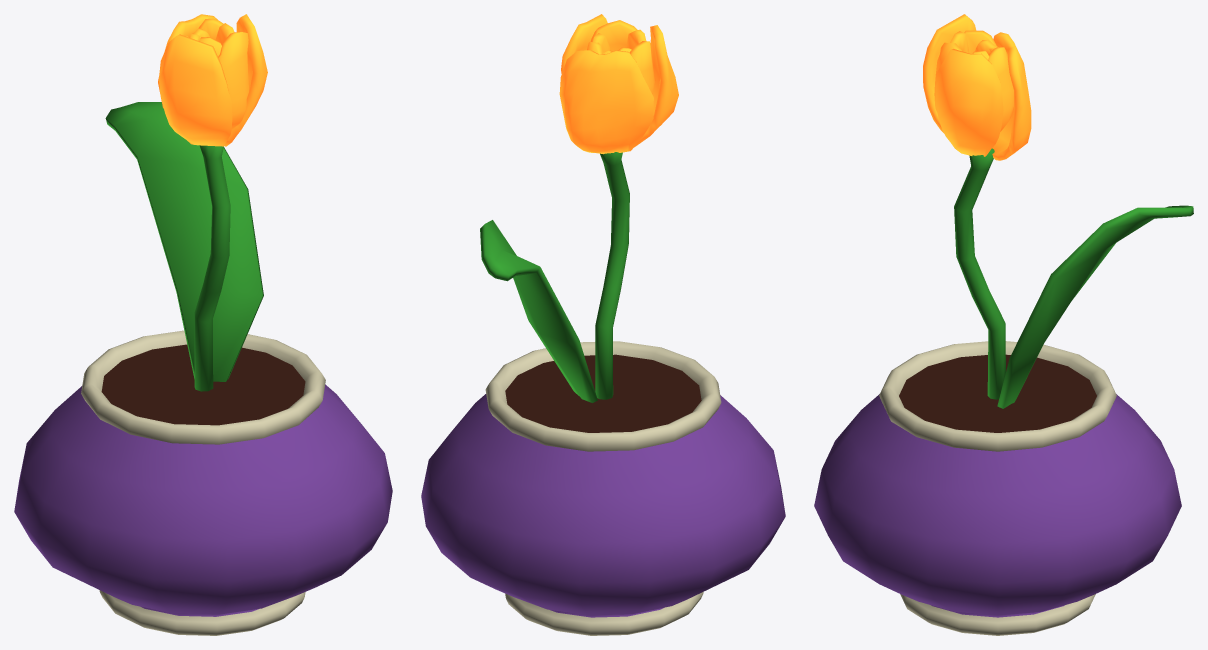
Rendered from tulipane2.glb.
3 renders of one model, left to right at view 1: azimuth 30°, elevation 25°; view 2: azimuth 150°, elevation 25°; view 3: azimuth 270°, elevation 25°, orthographic. The views are drawn at different scales.
Parts seen in each view (by area): view 1: Cylinder.001_Material.002_0, Plane.005_Material.004_0, Cylinder.001_Material.001_0, Tulip.003, Cylinder.002_Material.003_0, Cylinder.011_Material.004_0; view 2: Cylinder.001_Material.002_0, Tulip.003, Cylinder.001_Material.001_0, Cylinder.002_Material.003_0, Plane.005_Material.004_0, Cylinder.011_Material.004_0; view 3: Cylinder.001_Material.002_0, Tulip.003, Cylinder.001_Material.001_0, Cylinder.002_Material.003_0, Plane.005_Material.004_0, Cylinder.011_Material.004_0.
Part boxes in pixels (x1=…): Cylinder.001_Material.002_0: x1=14, y1=384, x2=392, y2=616; Plane.005_Material.004_0: x1=105, y1=102, x2=263, y2=381; Cylinder.001_Material.001_0: x1=81, y1=330, x2=325, y2=635; Tulip.003: x1=158, y1=14, x2=267, y2=146; Cylinder.002_Material.003_0: x1=101, y1=344, x2=305, y2=425; Cylinder.011_Material.004_0: x1=194, y1=145, x2=230, y2=391; Cylinder.001_Material.002_0: x1=421, y1=394, x2=785, y2=617; Tulip.003: x1=559, y1=14, x2=678, y2=154; Cylinder.001_Material.001_0: x1=485, y1=341, x2=721, y2=635; Cylinder.002_Material.003_0: x1=505, y1=354, x2=701, y2=432; Plane.005_Material.004_0: x1=480, y1=220, x2=597, y2=402; Cylinder.011_Material.004_0: x1=595, y1=152, x2=629, y2=399; Cylinder.001_Material.002_0: x1=814, y1=394, x2=1181, y2=617; Tulip.003: x1=923, y1=14, x2=1031, y2=160; Cylinder.001_Material.001_0: x1=879, y1=341, x2=1116, y2=635; Cylinder.002_Material.003_0: x1=899, y1=354, x2=1096, y2=432; Plane.005_Material.004_0: x1=997, y1=205, x2=1193, y2=408; Cylinder.011_Material.004_0: x1=954, y1=148, x2=1005, y2=399.
Size of the model in its own units: 0.4774 by 0.8044 by 0.4929.
